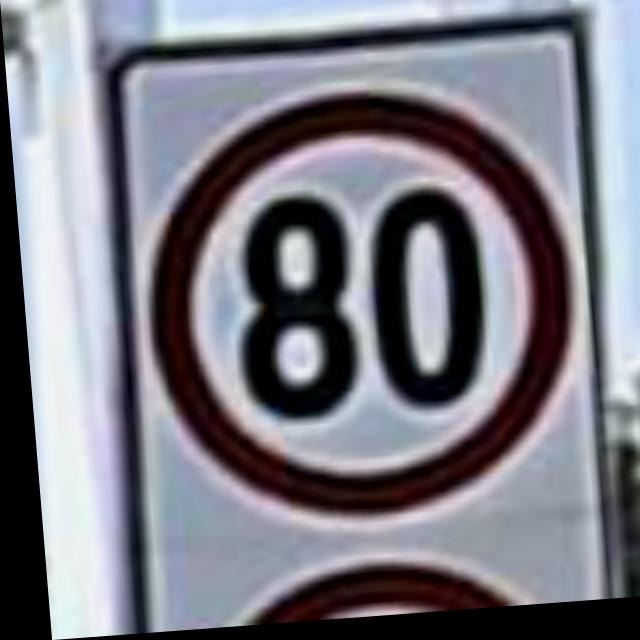limit80: (132, 69, 573, 511)
